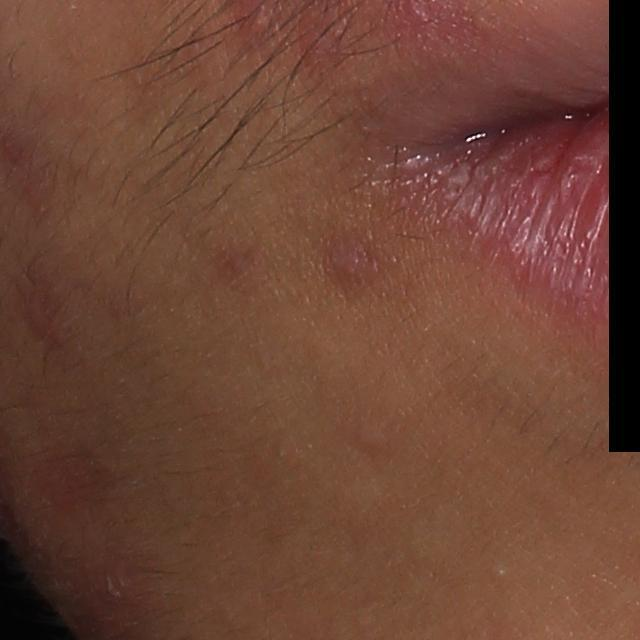comedo: (349, 420, 386, 452), (492, 567, 508, 579)
